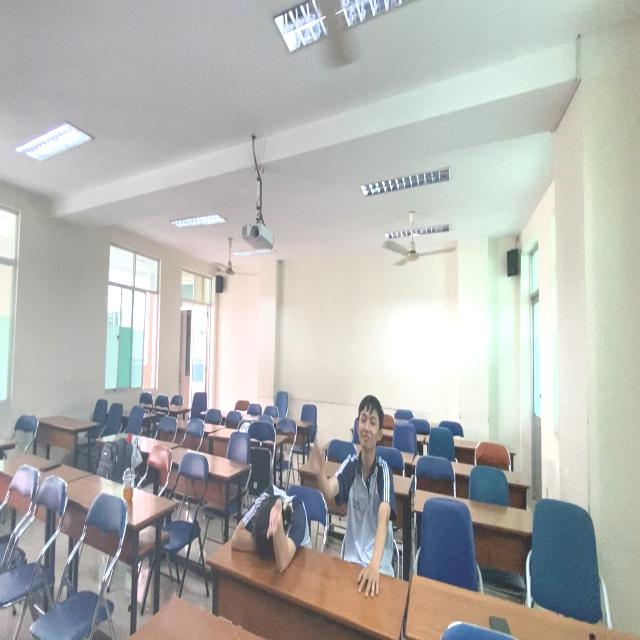sleep: (223, 480, 317, 576)
